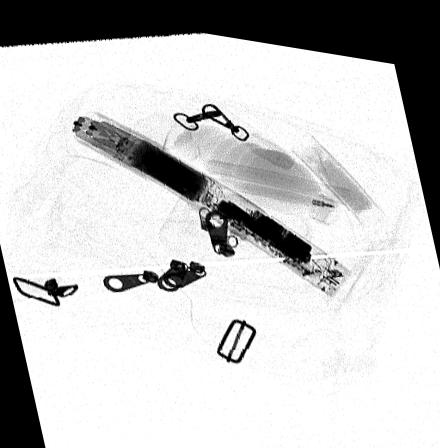Baton: (70, 105, 350, 285)
